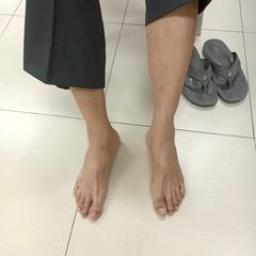Dorsal View -Both Feet-: (56, 102, 200, 232)
